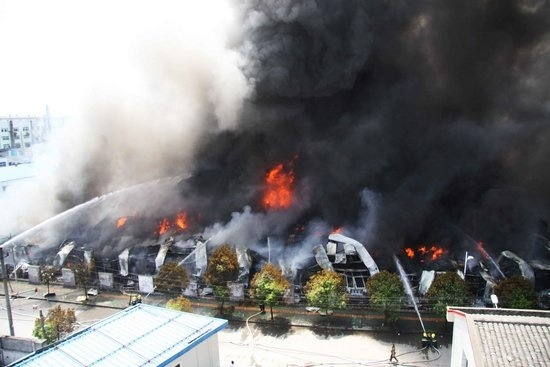fire: (262, 158, 297, 208), (151, 208, 191, 234), (402, 242, 444, 260)
